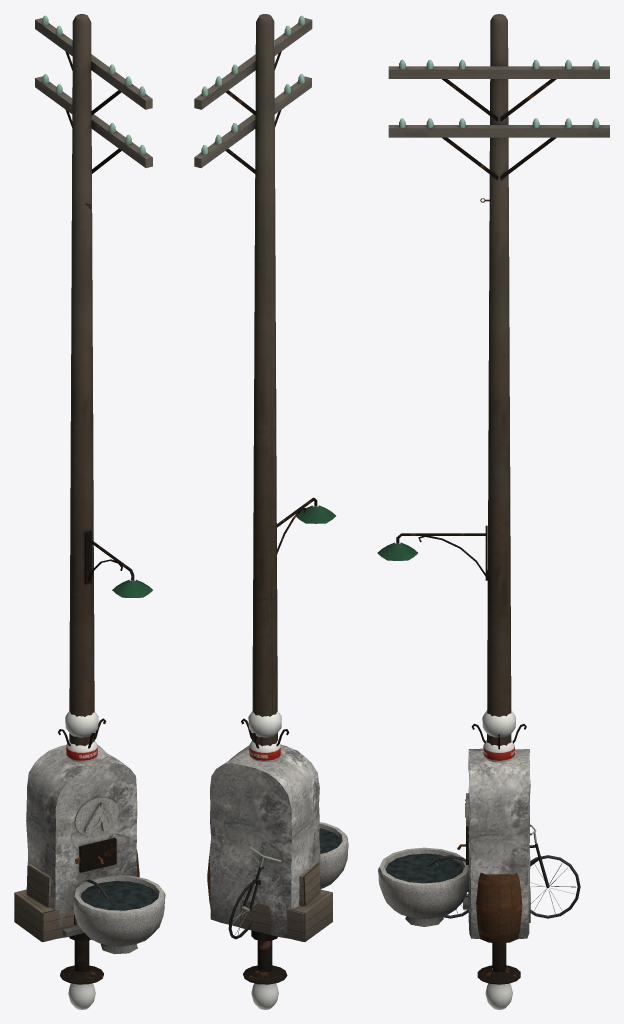
The model's file is street-props.glb.
3 renders of one model, left to right at view 1: azimuth 30°, elevation 25°; view 2: azimuth 150°, elevation 25°; view 3: azimuth 270°, elevation 25°, orthographic.
Visible parts, largest first — view 1: fountain, pole, shop_goods, arc_lamp, pole_lamp, gas_pump; view 2: pole, fountain, shop_goods, arc_lamp, pole_lamp, bicycle, gas_pump; view 3: pole, fountain, shop_goods, arc_lamp, bicycle, pole_lamp, gas_pump.
Boxes of the visible parts, x1=… form: fountain: x1=26, y1=711, x2=165, y2=954; pole: x1=35, y1=14, x2=152, y2=941; shop_goods: x1=14, y1=849, x2=139, y2=941; arc_lamp: x1=60, y1=940, x2=103, y2=1009; pole_lamp: x1=84, y1=530, x2=152, y2=597; gas_pump: x1=66, y1=740, x2=97, y2=762; pole: x1=194, y1=14, x2=312, y2=941; fountain: x1=209, y1=711, x2=348, y2=938; shop_goods: x1=207, y1=856, x2=332, y2=941; arc_lamp: x1=243, y1=940, x2=287, y2=1009; pole_lamp: x1=277, y1=497, x2=335, y2=554; bicycle: x1=228, y1=844, x2=284, y2=939; gas_pump: x1=249, y1=740, x2=280, y2=762; pole: x1=388, y1=14, x2=609, y2=745; fountain: x1=378, y1=710, x2=530, y2=939; shop_goods: x1=476, y1=872, x2=530, y2=943; arc_lamp: x1=477, y1=943, x2=520, y2=1009; bicycle: x1=427, y1=824, x2=580, y2=918; pole_lamp: x1=377, y1=525, x2=487, y2=580; gas_pump: x1=483, y1=739, x2=514, y2=762.
Bounding box in the file's own units: 1.36 × 11.89 × 2.52.
Materials: 1 (1 with a texture image).
